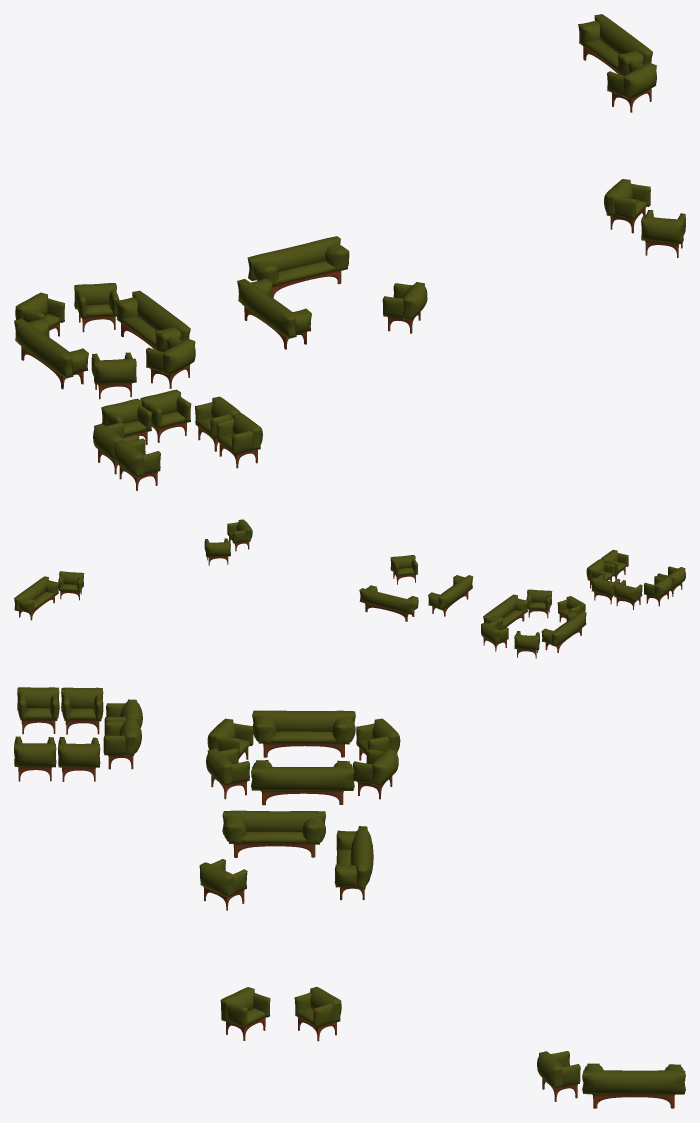
The model's file is armchair.fbx.
3 views of the same model, one above another, from view 1: azimuth 30°, elevation 25°; view 2: azimuth 150°, elevation 25°; view 3: azimuth 270°, elevation 25° (orthographic). The views are drawn at different scales.
Parts seen in each view (by area): view 1: armchair.016, armchair.018, armchair.015, armchair.014, armchair.017, armchair.012, armchair, armchair.007, armchair.008, armchair.002, armchair.004, armchair.011 (+7 smaller); view 2: armchair.016, armchair.018, armchair.015, armchair.014, armchair.017, armchair.003, armchair.004, armchair.002, armchair.001, armchair.010, armchair.007, armchair.009 (+7 smaller); view 3: armchair.014, armchair.017, armchair.018, armchair.015, armchair.016, armchair.001, armchair, armchair.011, armchair.010, armchair.007, armchair.002, armchair.004 (+7 smaller).
Part boxes in pixels (x1,y1,x2,y2): armchair.016: (247,236,349,297); armchair.018: (578,14,652,75); armchair.015: (116,290,190,352); armchair.014: (14,318,88,389); armchair.017: (237,278,311,349); armchair.012: (216,413,262,468); armchair: (604,179,650,233); armchair.007: (74,283,119,332); armchair.008: (140,389,191,442); armchair.002: (607,61,656,112); armchair.004: (146,337,195,388); armchair.011: (114,438,160,490); armchair.016: (359,585,418,621); armchair.018: (14,576,59,620); armchair.015: (483,594,527,630); armchair.014: (541,611,586,652); armchair.017: (428,575,473,616); armchair.003: (390,555,417,584); armchair.004: (526,589,552,618); armchair.002: (58,571,84,600); armchair.001: (227,519,252,551); armchair.010: (644,576,672,606); armchair.007: (481,621,508,651); armchair.009: (613,580,642,609); armchair.014: (252,710,355,757); armchair.017: (222,810,325,857); armchair.018: (582,1063,685,1108); armchair.015: (251,760,354,805); armchair.016: (334,826,373,900); armchair.001: (220,987,270,1040); armchair: (294,987,341,1041); armchair.011: (17,687,59,734); armchair.010: (61,687,103,734); armchair.007: (352,748,398,799); armchair.002: (537,1051,580,1101); armchair.004: (206,748,249,799).
Size of the model in its own units: 8739 by 381 by 6323.
